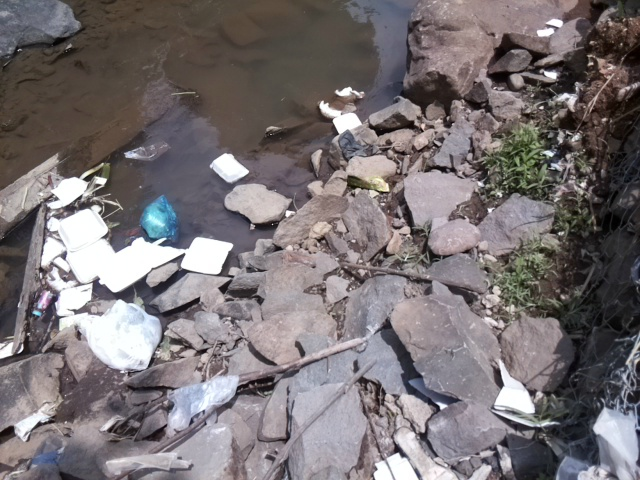Sampah_Botol_Plastik: (32, 287, 55, 317)
Sampah_Plastik: (86, 301, 167, 374), (163, 372, 241, 431), (136, 194, 179, 242)
Sampah_Styrofoam: (39, 215, 99, 310), (95, 241, 189, 290), (58, 237, 117, 281), (56, 206, 113, 249), (178, 234, 235, 274), (495, 366, 536, 419), (208, 152, 251, 184), (47, 176, 87, 208), (333, 110, 363, 132)
